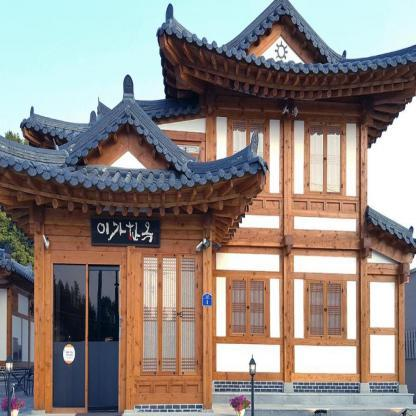Building Outline: (0, 0, 416, 415)
Dont: (229, 353, 256, 413)
Door: (53, 264, 119, 412)
Facade: (36, 127, 368, 413)
Floor Slab: (35, 217, 368, 224)
Ground Floor: (35, 224, 368, 415)
Roof: (0, 0, 416, 193), (366, 206, 416, 250)
Shop: (90, 216, 160, 248)
Top Floor: (118, 108, 368, 217)
Window: (140, 253, 197, 376), (230, 117, 266, 192), (309, 122, 342, 193), (230, 278, 267, 337), (308, 280, 343, 338)
